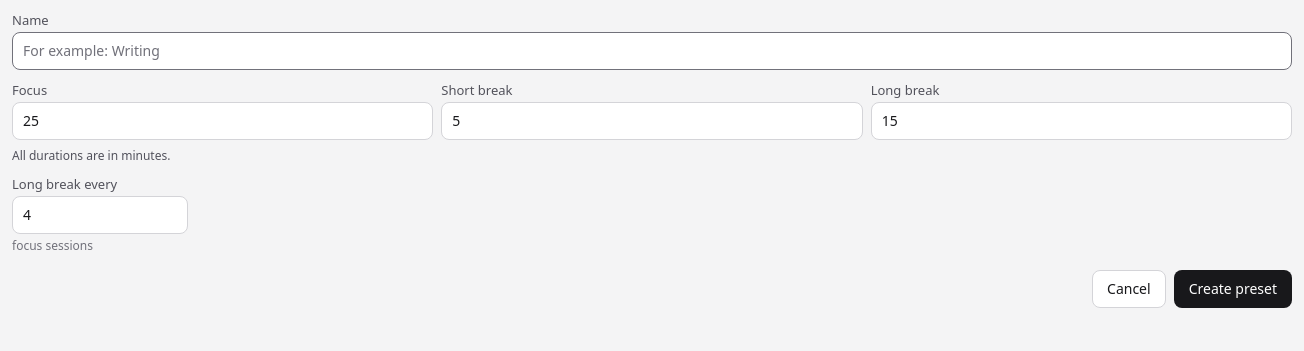
PresetForm › asks for a name before creating a preset
The image size is (1304, 351).
Step 1. Click the button "Create preset" → coordinates (1233, 289), box [1174,270,1292,308]
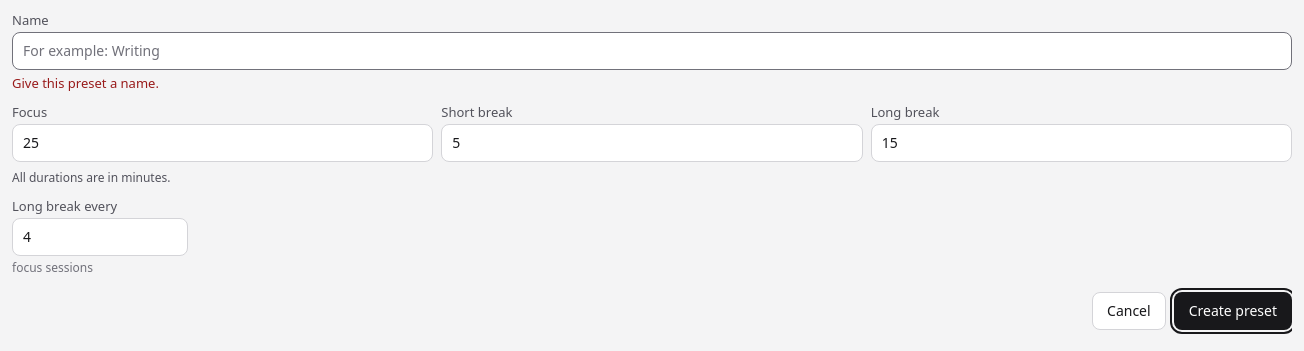
Expected: the message reads "Give this preset a name.", [12,74,159,92]
